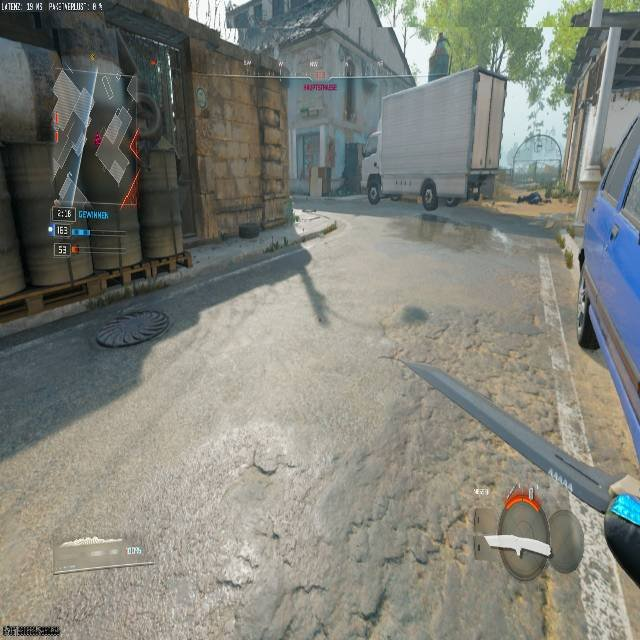player: (419, 176, 437, 214), (365, 169, 383, 206)
